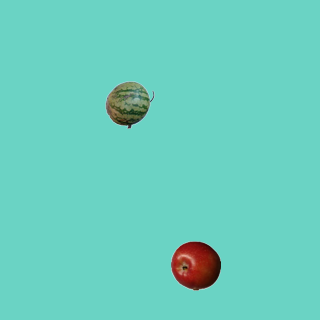Apple Braeburn: (170, 240, 220, 290)
Watermelon: (104, 79, 154, 129)
